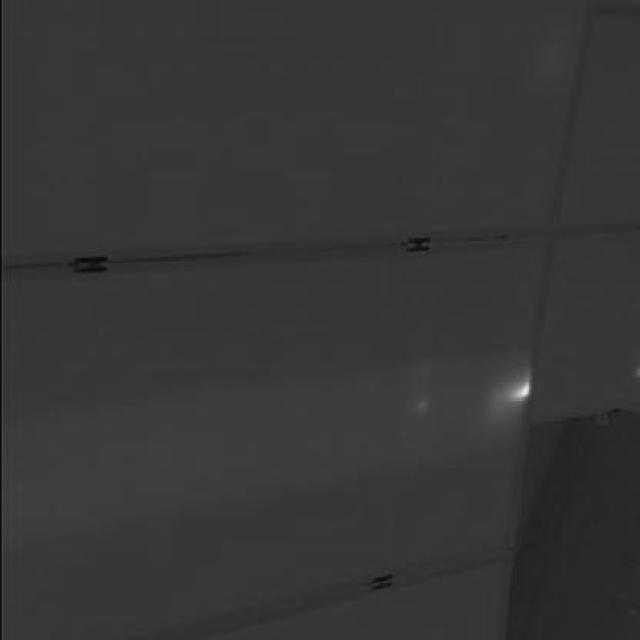hotspot: (496, 372, 533, 416)
